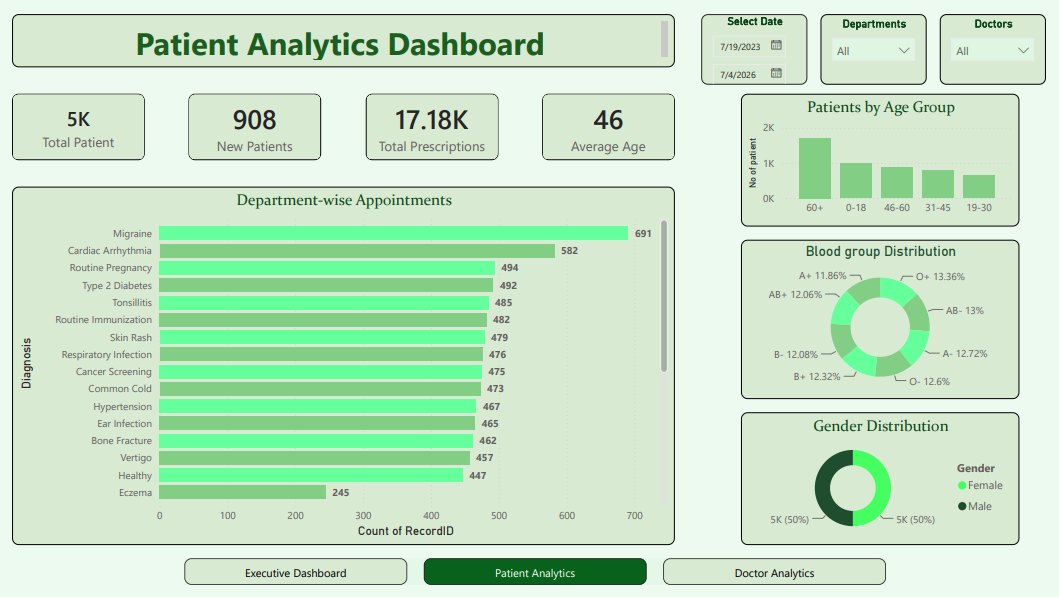

The page's visual inventory and layout, read from the dashboard file:
{"tool":"powerbi","page":{"name":"Patient Analytics","canvas":[1280,720],"ordinal":1},"visuals":[{"type":"textbox","box":[16,16,800,64],"z":0},{"type":"slicer","title":"Select Date","fields":{"Values":["appointments.AppointmentDate"]},"box":[848,16,128,85],"z":1000},{"type":"slicer","title":"Departments","fields":{"Values":["departments.DepartmentName"]},"box":[992,16,128,85],"z":2000},{"type":"slicer","title":"Doctors","fields":{"Values":["doctors.Doctor Name"]},"box":[1136,16,128,85],"z":3000},{"type":"cardVisual","fields":{"Data":["Measures_tables.Total Patient"]},"box":[16,112,160,80],"z":4000},{"type":"cardVisual","fields":{"Data":["Measures_tables.New Patients"]},"box":[229.3,112,160,80],"z":5000},{"type":"cardVisual","fields":{"Data":["Measures_tables.Total Prescriptions"]},"box":[442.7,112,160,80],"z":6000},{"type":"cardVisual","fields":{"Data":["Measures_tables.Average Age"]},"box":[656,112,160,80],"z":7000},{"type":"clusteredColumnChart","title":"Patients by Age Group","fields":{"Category":["patients.Age Group"],"Y":["CountNonNull(patients.PatientID)"]},"box":[896,112,336,160],"z":10000},{"type":"donutChart","title":"Gender Distribution","fields":{"Category":["doctors.Gender"],"Y":["Measures_tables.Total Patient"]},"box":[896,496,336,160],"z":11000},{"type":"clusteredBarChart","title":"Department-wise Appointments","fields":{"Category":["medical_records.Diagnosis"],"Y":["CountNonNull(medical_records.RecordID)"]},"box":[16,224,800,432],"z":12000},{"type":"donutChart","title":"Blood group Distribution","fields":{"Category":["patients.BloodGroup"],"Y":["CountNonNull(patients.PatientID)"]},"box":[896,288,336,192],"z":14000},{"type":"pageNavigator","box":[224,672,848,32],"z":14001}]}

Visuals, with their boxes in screenshot pixels (x1, y1, x2, y2), scaled from the page's 1280x720 canvas onto the 1059x598 screenshot:
textbox: bbox(13, 13, 675, 66)
"Select Date" slicer: bbox(702, 13, 807, 84)
"Departments" slicer: bbox(821, 13, 927, 84)
"Doctors" slicer: bbox(940, 13, 1046, 84)
cardVisual - Measures_tables.Total Patient: bbox(13, 93, 146, 159)
cardVisual - Measures_tables.New Patients: bbox(190, 93, 322, 159)
cardVisual - Measures_tables.Total Prescriptions: bbox(366, 93, 499, 159)
cardVisual - Measures_tables.Average Age: bbox(543, 93, 675, 159)
"Patients by Age Group" clusteredColumnChart: bbox(741, 93, 1019, 226)
"Gender Distribution" donutChart: bbox(741, 412, 1019, 545)
"Department-wise Appointments" clusteredBarChart: bbox(13, 186, 675, 545)
"Blood group Distribution" donutChart: bbox(741, 239, 1019, 399)
pageNavigator: bbox(185, 558, 887, 585)
